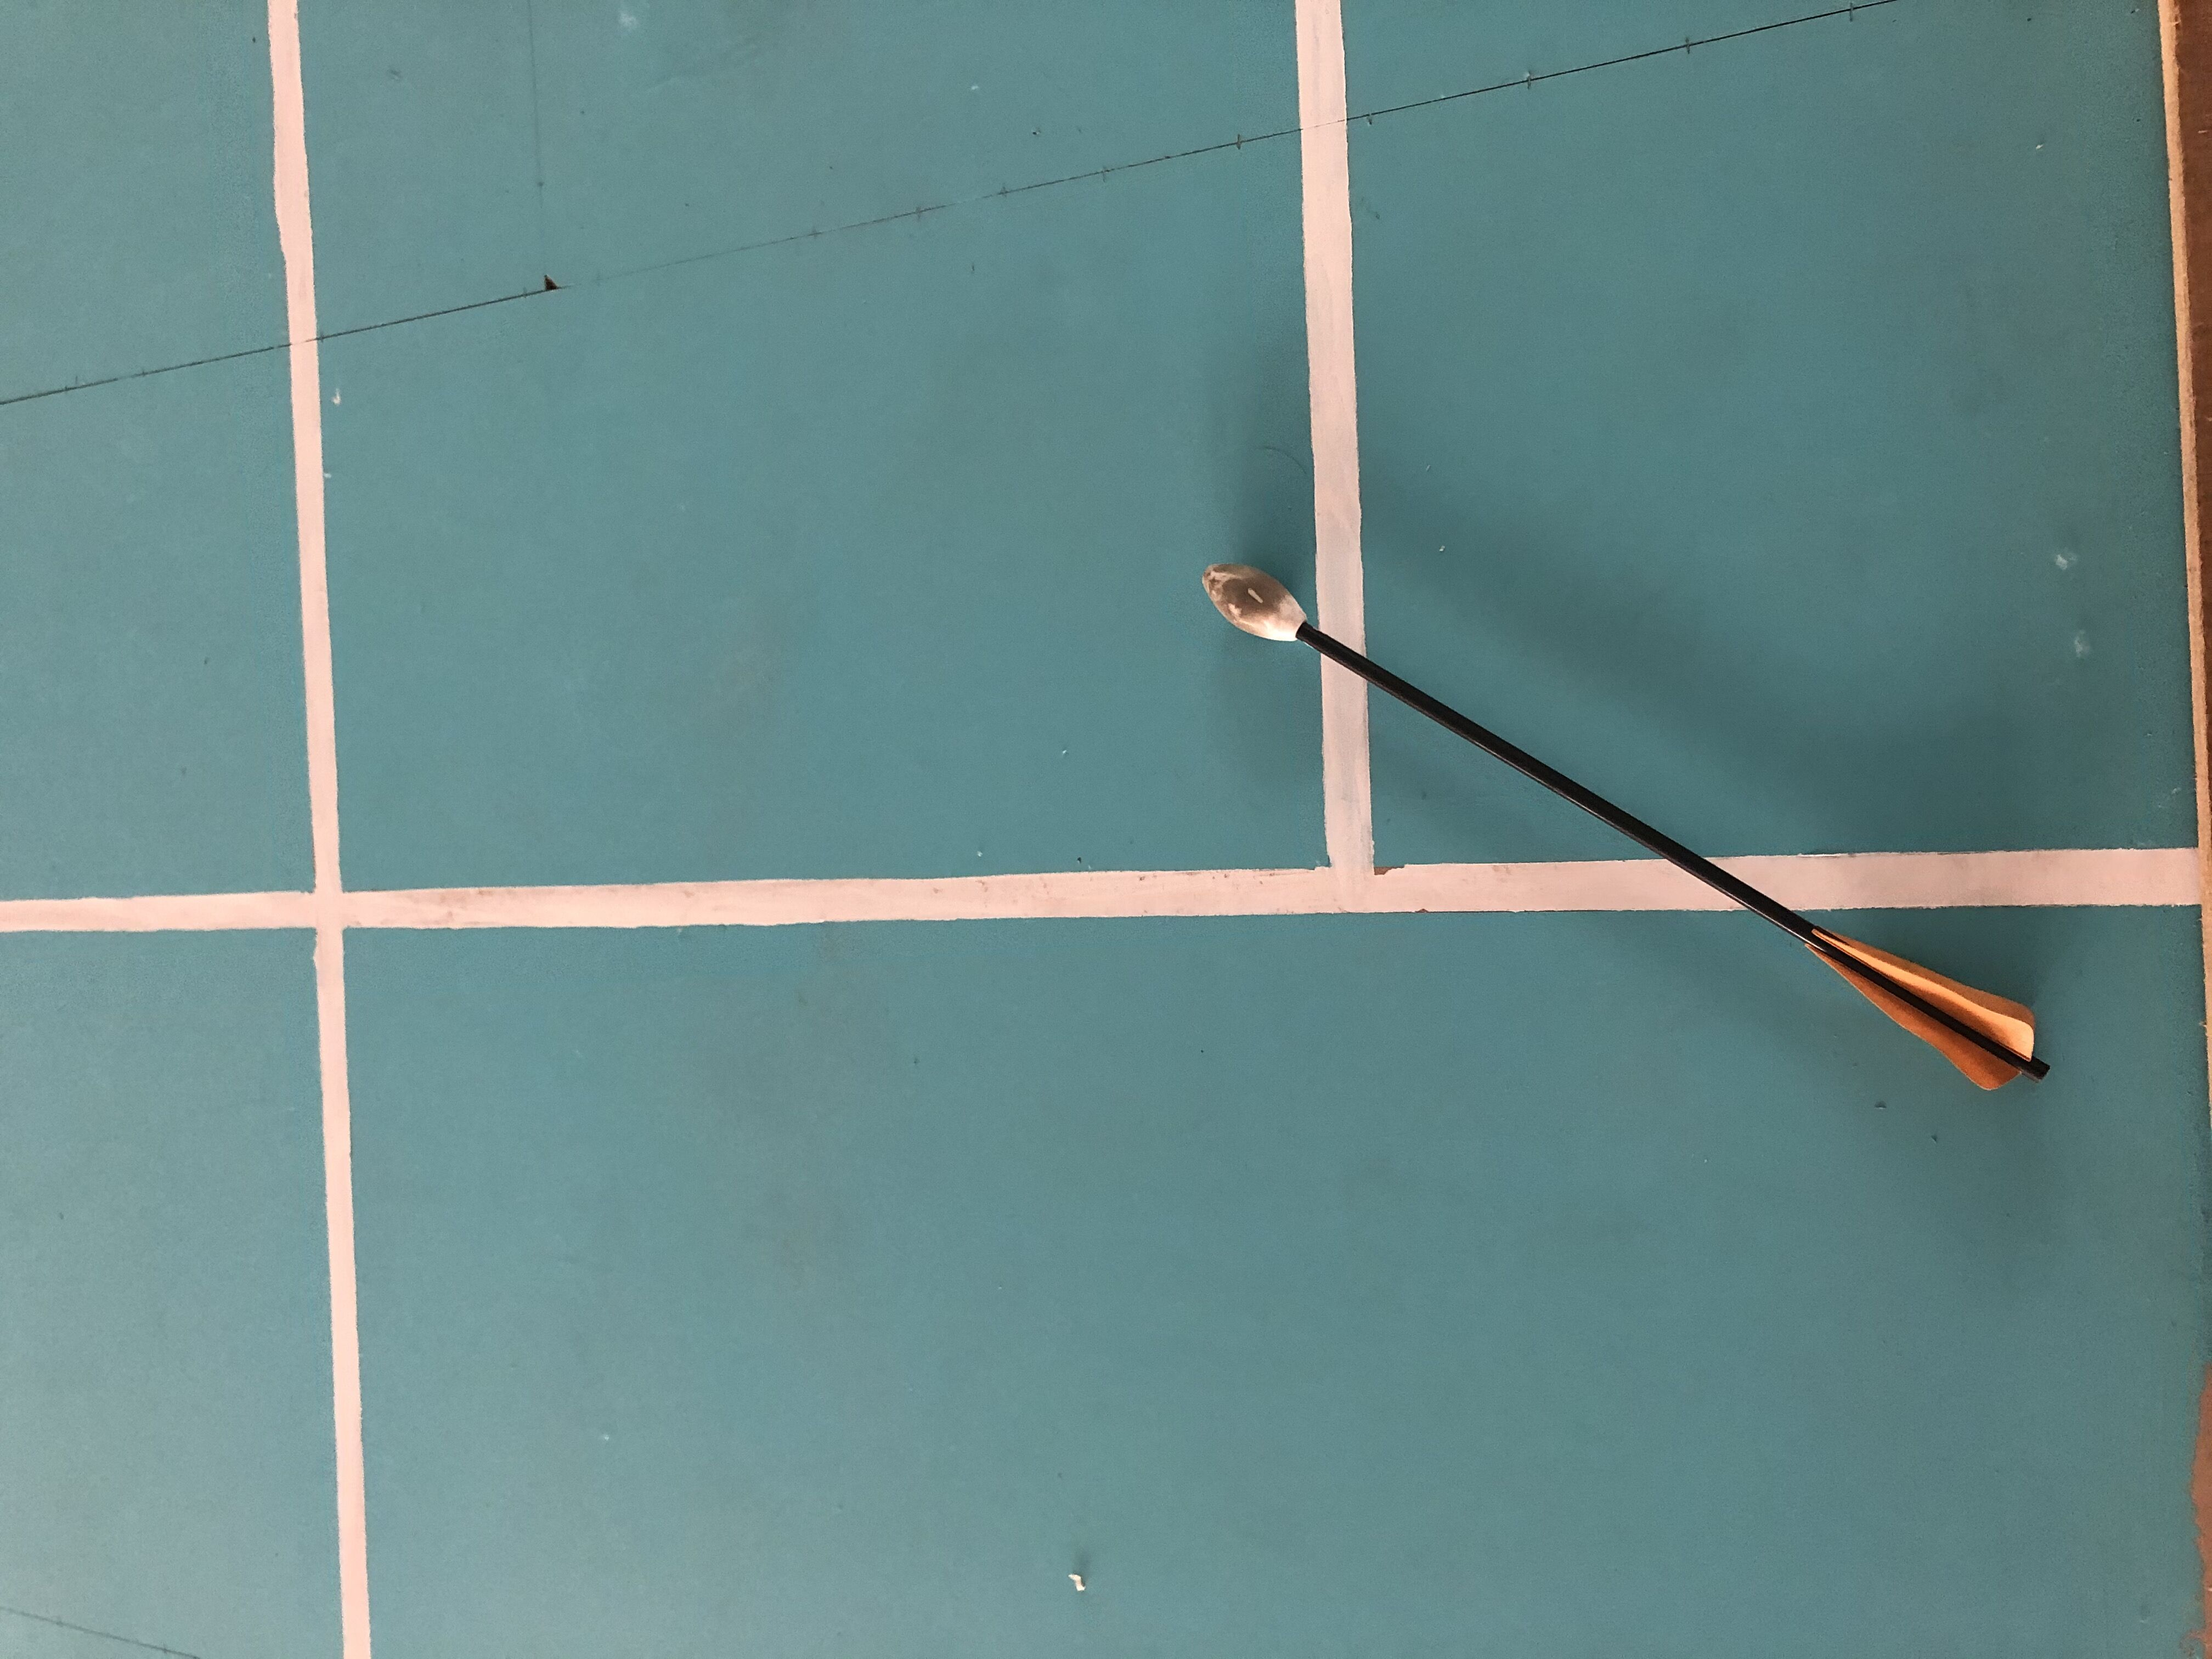arrow: (1207, 563, 2052, 1086)
arrowFront: (1204, 561, 1308, 641)
